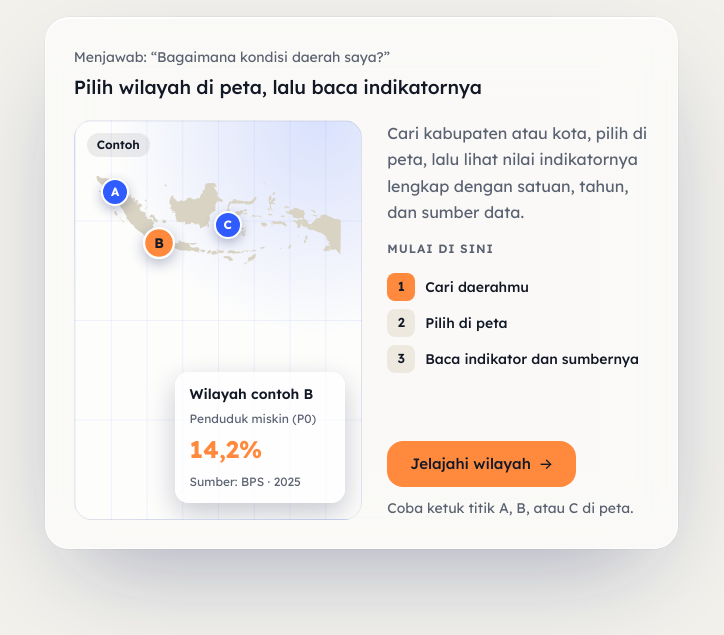
HowItWorksSection (Guided Question Canvas) › lets the visitor try the example markers on the Jelajahi map
What coordinates should you click on to do the following:
click the button named "Wilayah contoh A"
I would click on:
 (115, 192)
Its box is [101,178,129,206].
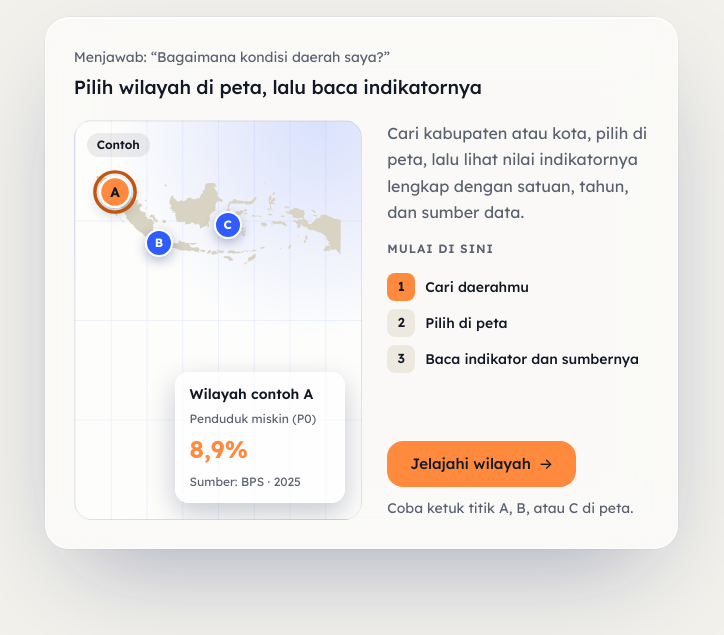
Result: the text "Wilayah contoh A" is shown at [190,383,330,406]
